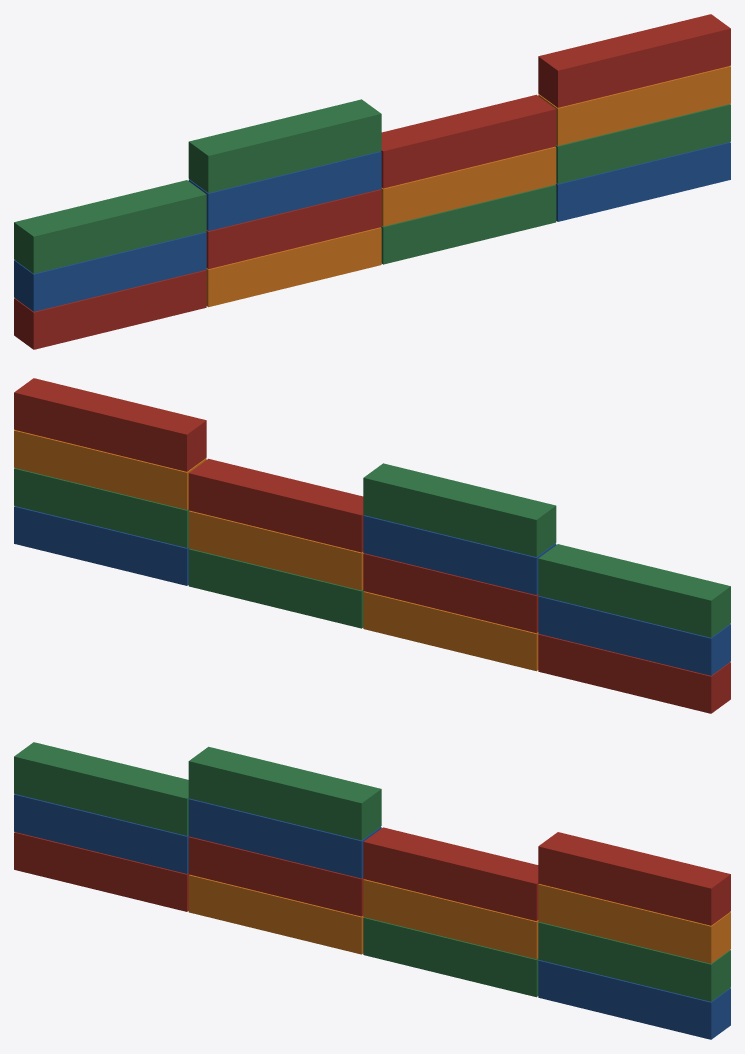
File: container_wall.obj
3 renders of one model, top to bottom at view 1: azimuth 30°, elevation 25°; view 2: azimuth 150°, elevation 25°; view 3: azimuth 330°, elevation 25°, orthographic.
Visible parts, largest first — view 1: container_wall; view 2: container_wall; view 3: container_wall.
Part boxes in pixels (x1,y1,x2,y2): container_wall: (14, 14, 730, 349); container_wall: (14, 378, 730, 713); container_wall: (14, 742, 730, 1039).
Size of the model in its own units: 49.88 by 10.34 by 2.45.
